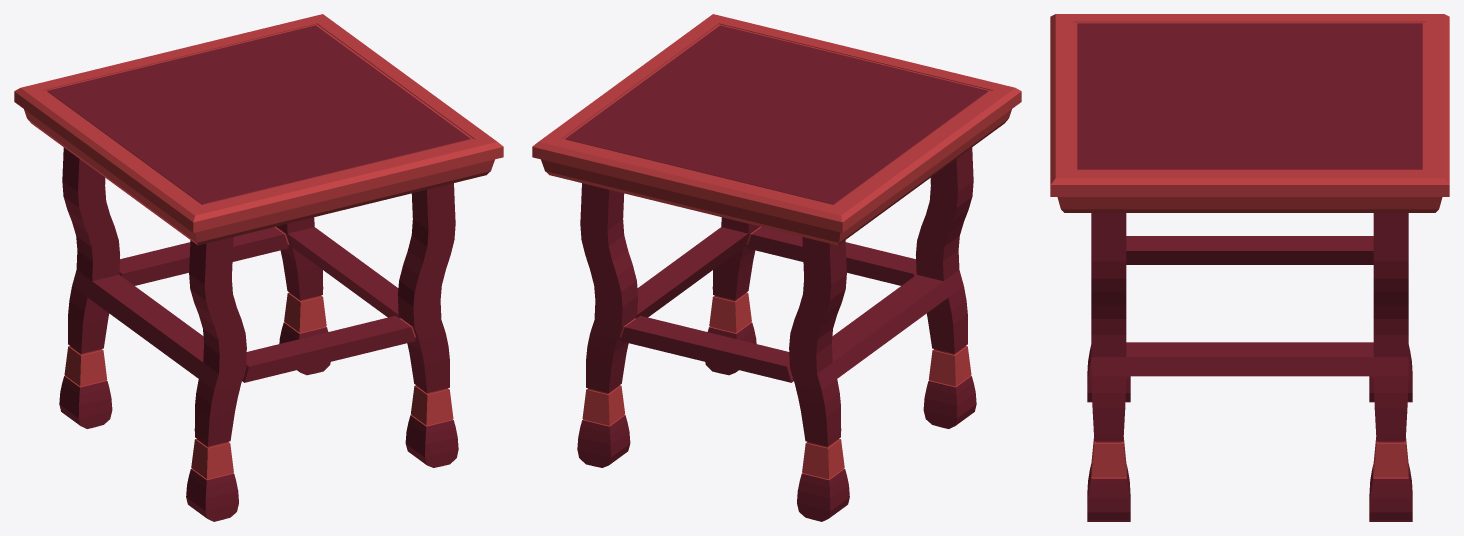
Rendered from table_001_grp.fbx.
The picture shows the model from 3 angles, left to right: view 1: azimuth 30°, elevation 25°; view 2: azimuth 150°, elevation 25°; view 3: azimuth 270°, elevation 25°; orthographic projection. The views are drawn at different scales.
Visible parts, largest first — view 1: table_001_grp; view 2: table_001_grp; view 3: table_001_grp.
Part boxes in pixels (box(x1,y1,x2,y2)): table_001_grp: box(14, 14, 503, 521); table_001_grp: box(532, 14, 1021, 521); table_001_grp: box(1050, 14, 1449, 521).
Size of the model in its own units: 75 by 75 by 75.
